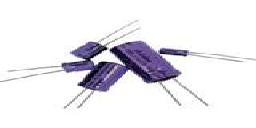Electrolytic-Capacitor: (108, 40, 214, 110), (1, 60, 97, 83), (160, 44, 252, 63)
